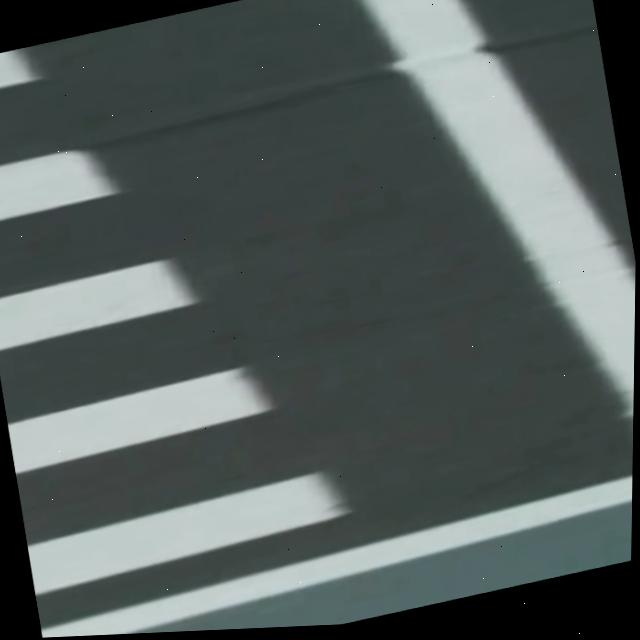left: (41, 474, 633, 638)
